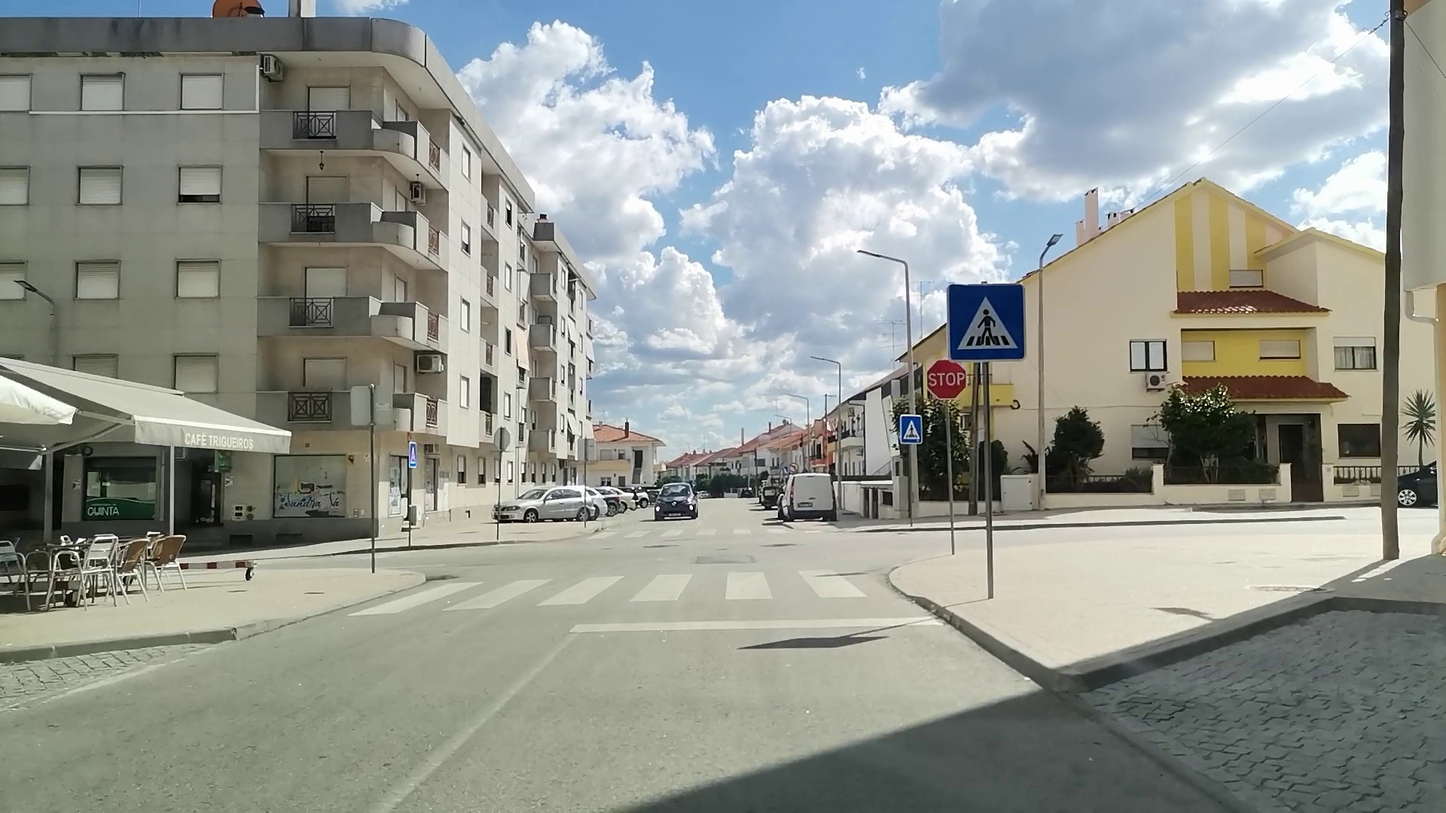Stairs: (350, 565, 868, 617), (587, 527, 829, 540)
